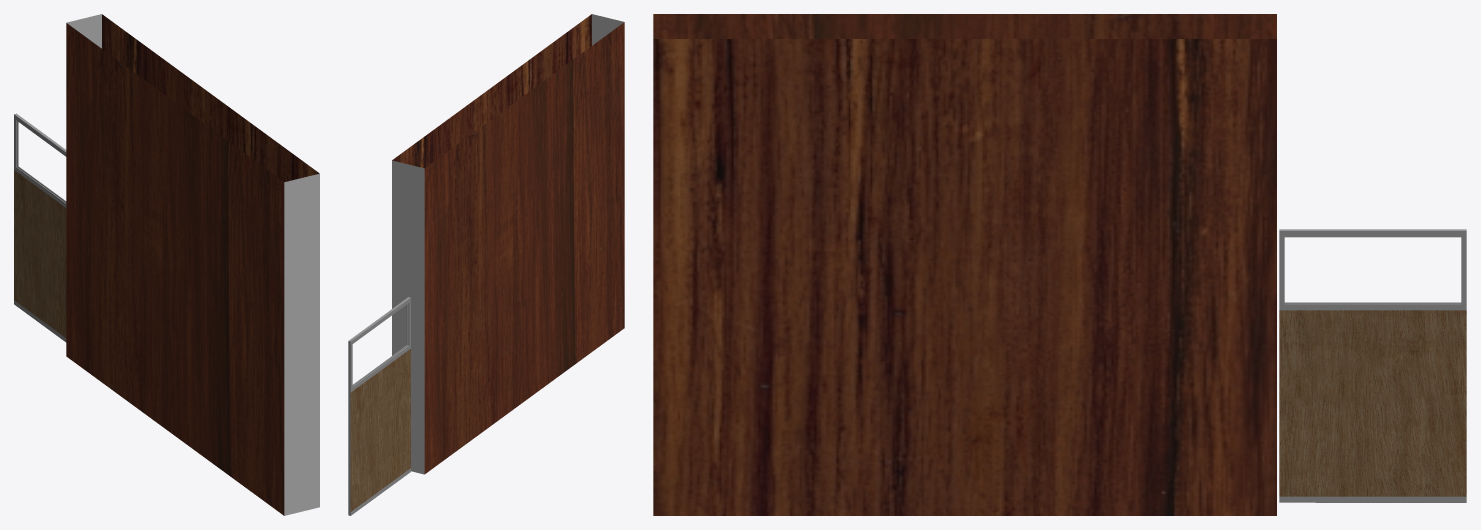
The model's file is pared_interna.glb.
3 views of the same model, side by side, from view 1: azimuth 30°, elevation 25°; view 2: azimuth 150°, elevation 25°; view 3: azimuth 270°, elevation 25° (orthographic). The views are drawn at different scales.
Visible parts, largest first — view 1: pared_interna_export; view 2: pared_interna_export; view 3: pared_interna_export.
Part boxes in pixels (x1,y1,x2,y2): pared_interna_export: (14,14,319,515); pared_interna_export: (348,14,624,515); pared_interna_export: (653,14,1466,515).
Bounding box in the file's own units: 1.77 × 15.8 × 24.41.
Materials: 4 (2 with a texture image).
